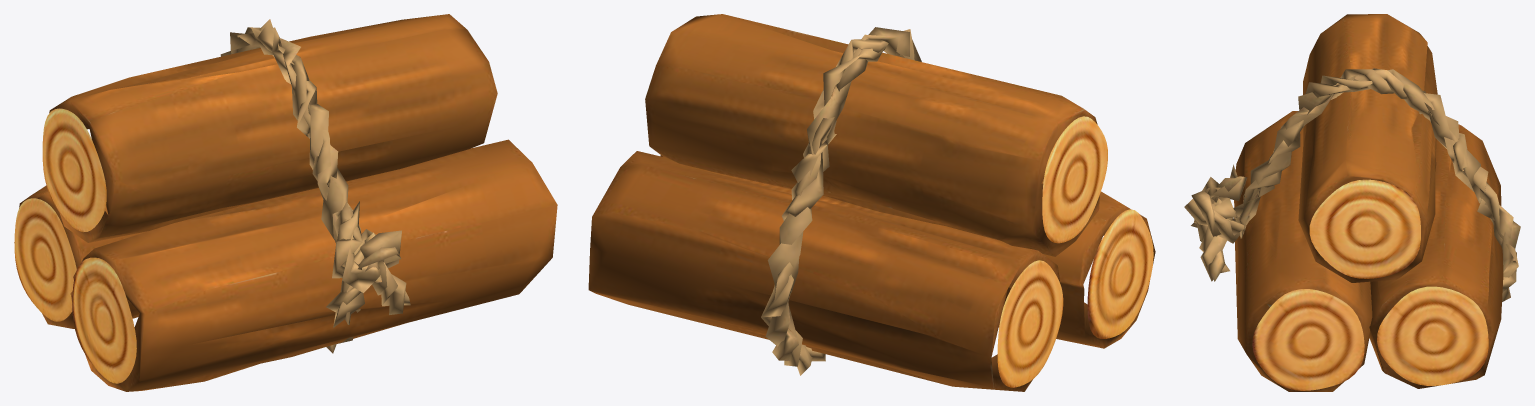
Rendered from wood.glb.
3 views of the same model, side by side, from view 1: azimuth 30°, elevation 25°; view 2: azimuth 150°, elevation 25°; view 3: azimuth 270°, elevation 25° (orthographic). The views are drawn at different scales.
Parts seen in each view (by area): view 1: wood; view 2: wood; view 3: wood.
Boxes of the visible parts, box(x1,y1,x2,y2) form: wood: box(14, 14, 557, 391); wood: box(588, 14, 1155, 391); wood: box(1184, 14, 1520, 391).
Size of the model in its own units: 1.92 by 1.27 by 1.51.
2 materials, 2 textured.
